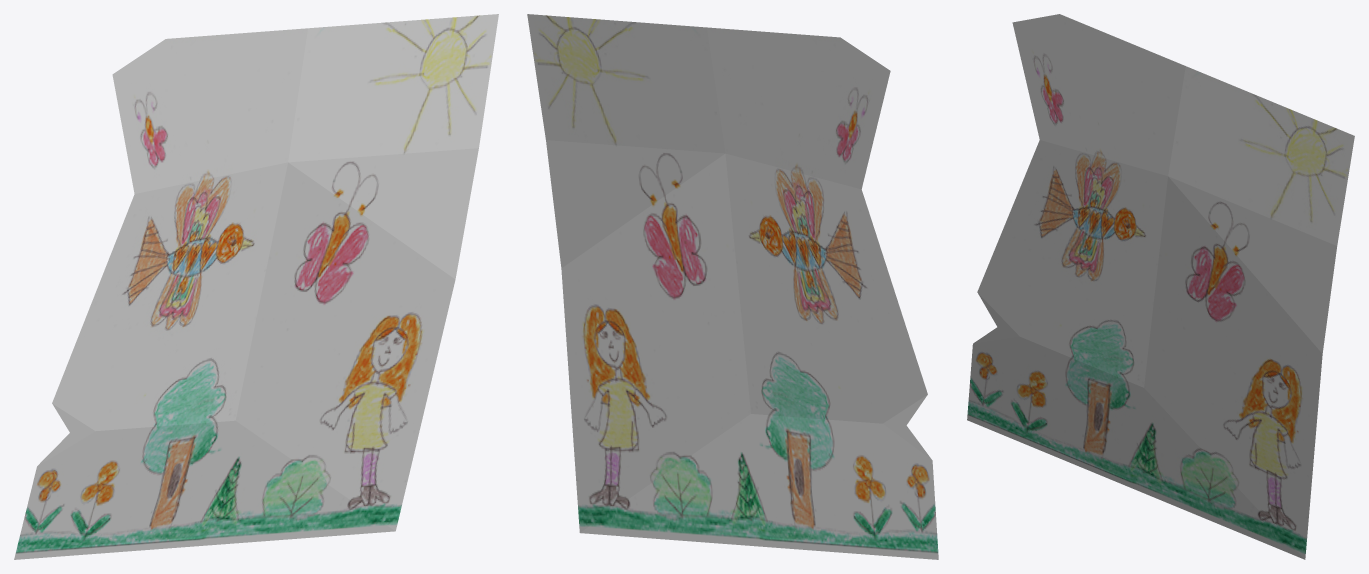
File: SM_ChildArt4.fbx
The picture shows the model from 3 angles, left to right: view 1: azimuth 30°, elevation 25°; view 2: azimuth 150°, elevation 25°; view 3: azimuth 330°, elevation 25°; orthographic projection. The views are drawn at different scales.
Parts seen in each view (by area): view 1: SM_ChildArt4; view 2: SM_ChildArt4; view 3: SM_ChildArt4.
Part boxes in pixels (left/top/right/bottom): SM_ChildArt4: left=14, top=14, right=498, bottom=559; SM_ChildArt4: left=527, top=14, right=938, bottom=559; SM_ChildArt4: left=967, top=14, right=1354, bottom=559.
Size of the model in its own units: 25.76 by 30.5 by 2.28.
